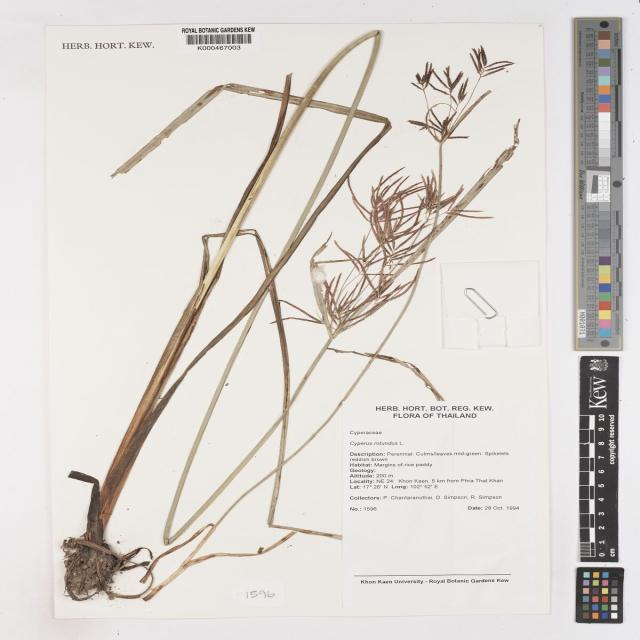cyperus: (290, 170, 455, 318), (394, 47, 516, 156)
